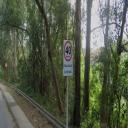speed_limit_40: (64, 40, 72, 62)
